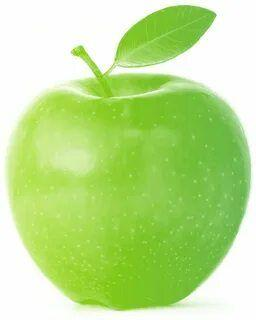Apple: (6, 73, 252, 309)
